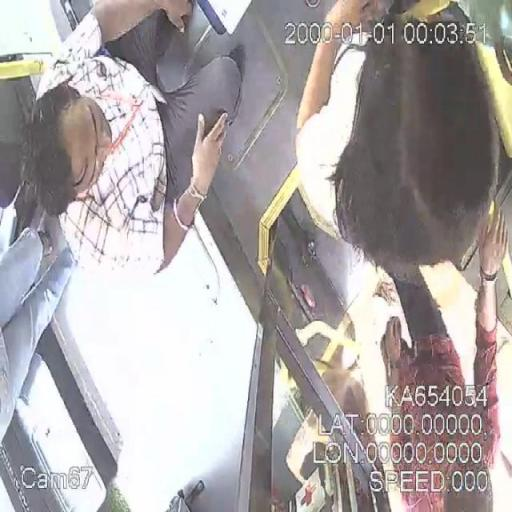persona: (18, 2, 242, 290), (294, 1, 498, 279), (362, 267, 511, 508), (0, 216, 89, 440)
